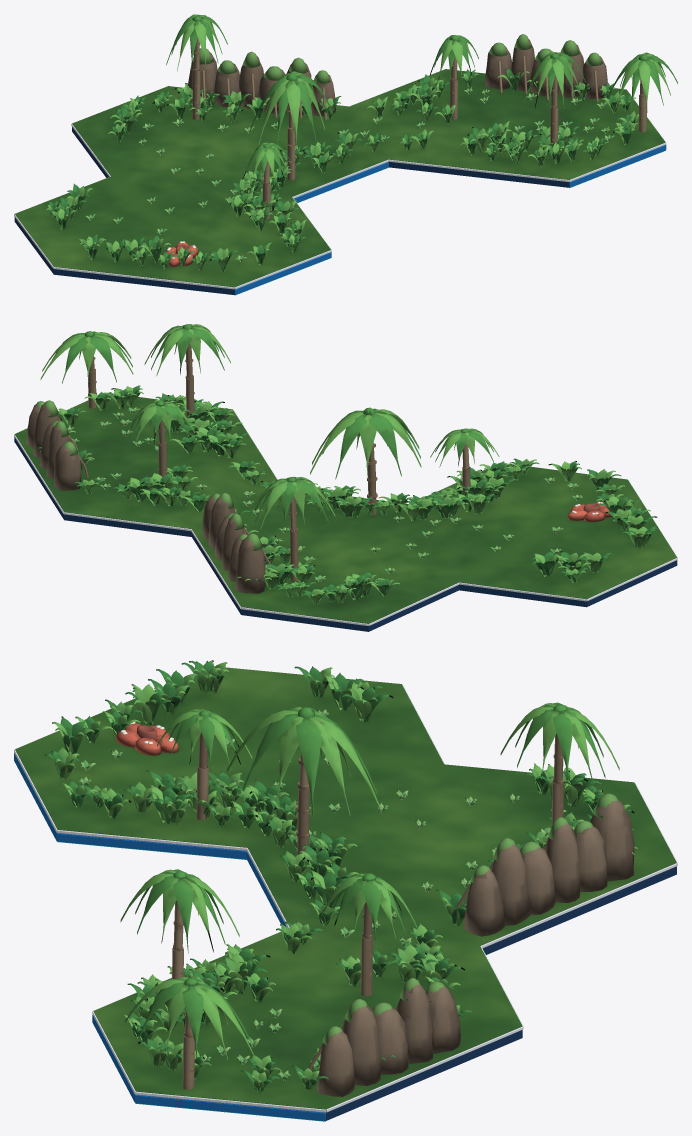
Rendered from field_cm12_01.glb.
3 renders of one model, top to bottom at view 1: azimuth 30°, elevation 25°; view 2: azimuth 150°, elevation 25°; view 3: azimuth 270°, elevation 25°, orthographic. The views are drawn at different scales.
Visible parts, largest first — view 1: field_cm12_01-rooted-jungle; view 2: field_cm12_01-rooted-jungle; view 3: field_cm12_01-rooted-jungle.
Boxes of the visible parts, bbox=[...] form: field_cm12_01-rooted-jungle: bbox=[14, 14, 677, 295]; field_cm12_01-rooted-jungle: bbox=[14, 324, 677, 631]; field_cm12_01-rooted-jungle: bbox=[14, 660, 677, 1121].
Size of the model in its own units: 19.4 by 3.36 by 12.12.
Materials: 1 (1 with a texture image).
